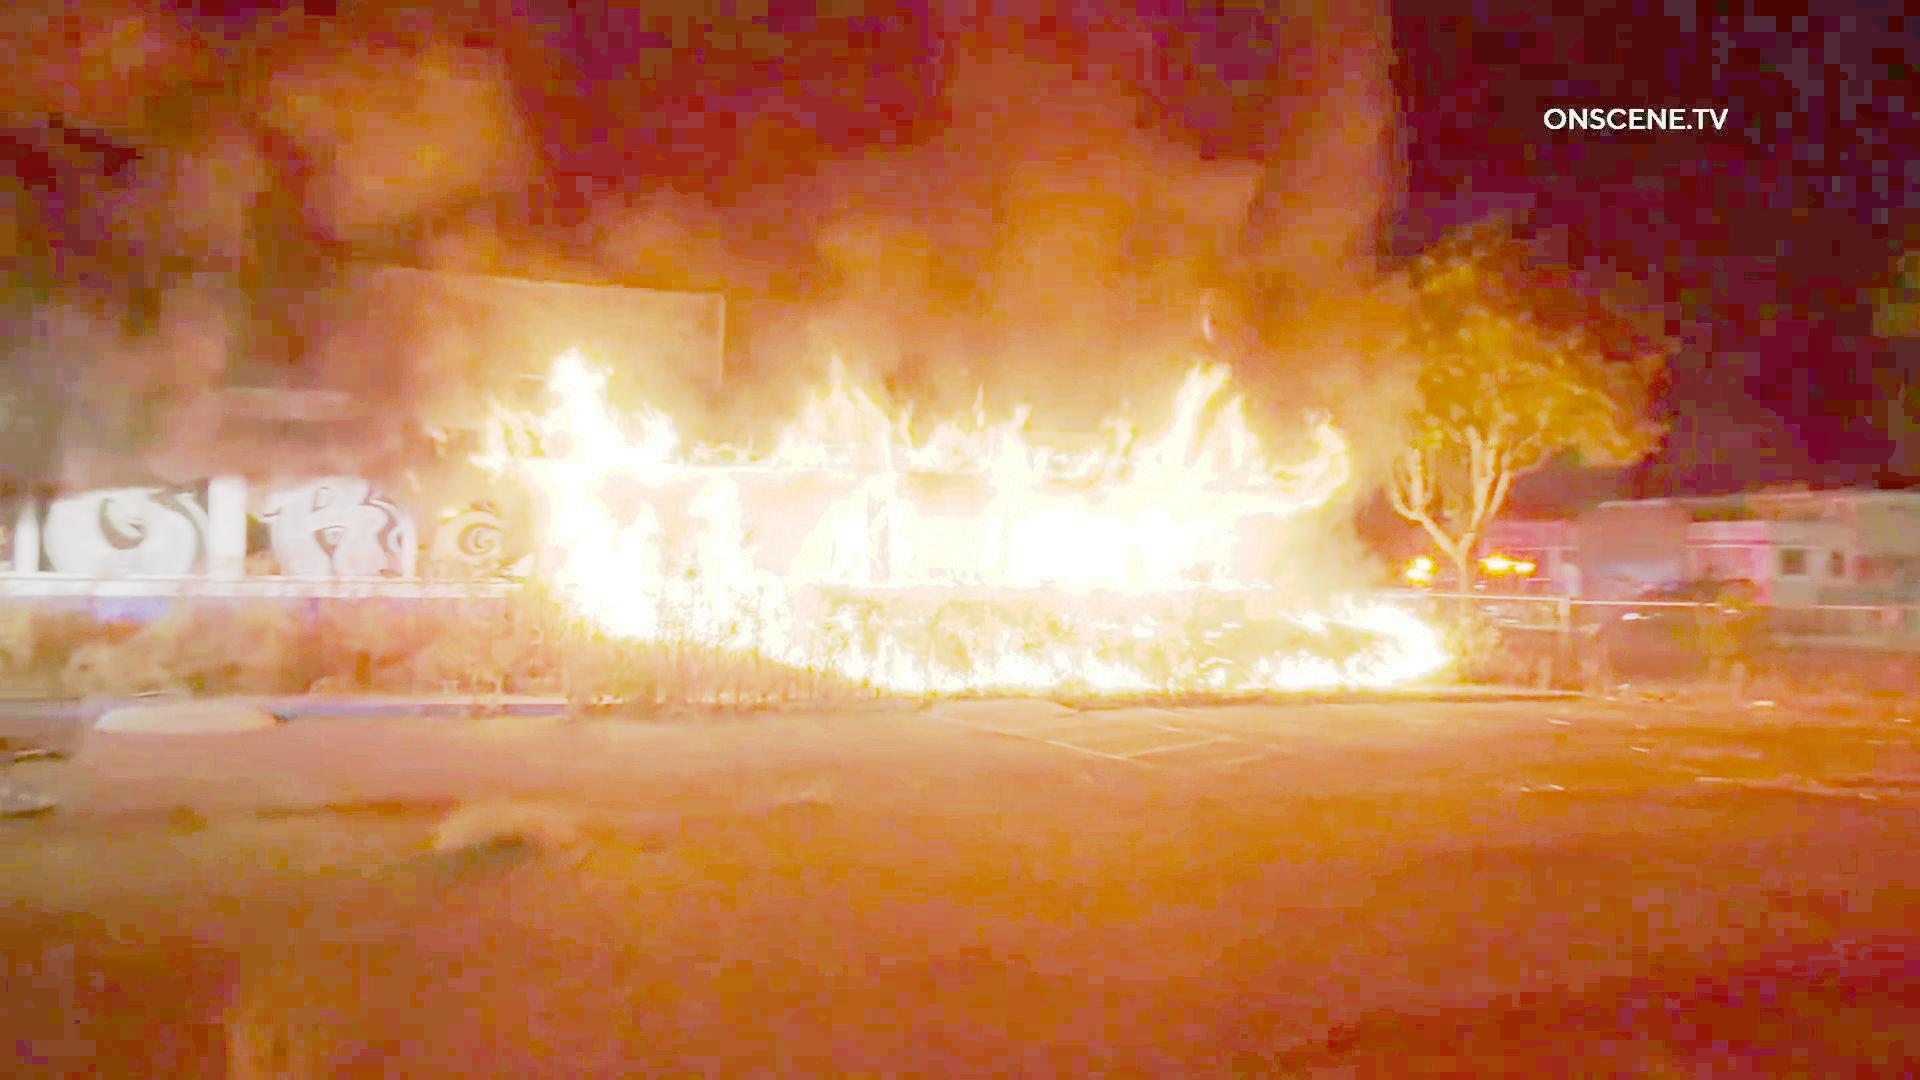fire: (500, 319, 1325, 654)
